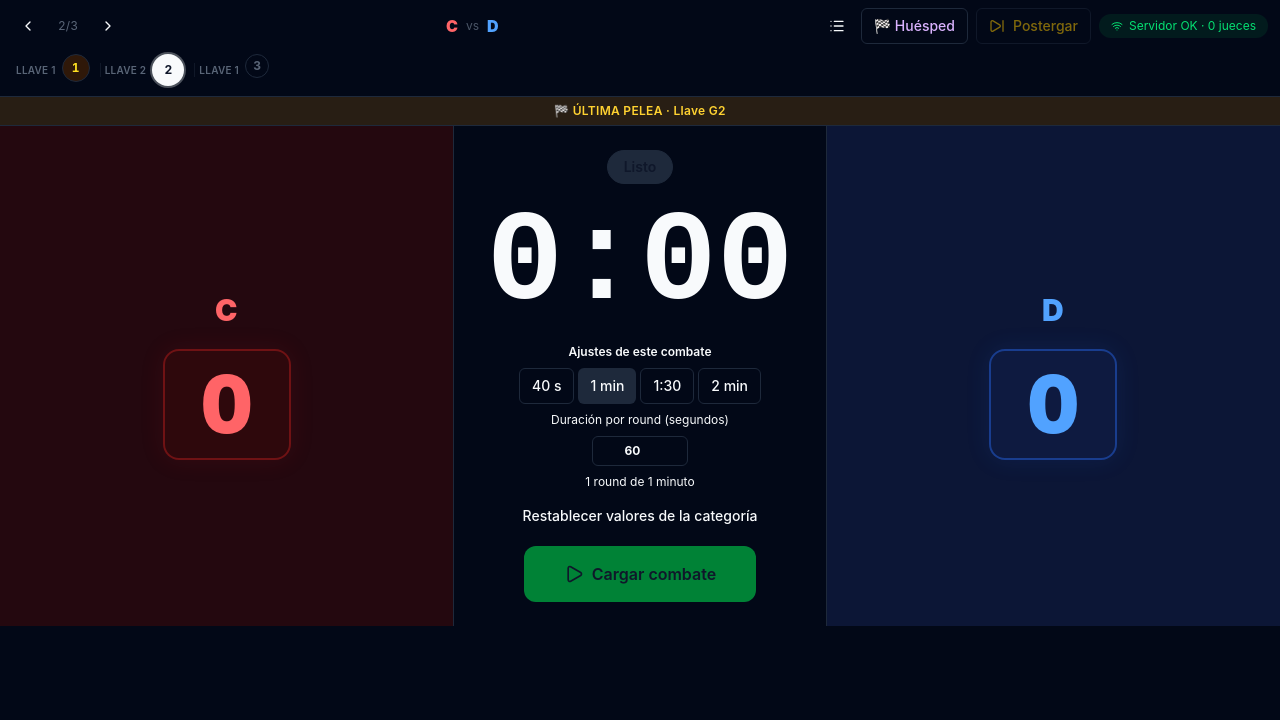
Test: operator-confirmed round-robin rest advisory › renders repeated interleaved group labels without duplicate React keys
Click the button titled "Ver lista de combates" at (837, 26), box [821, 10, 853, 42]
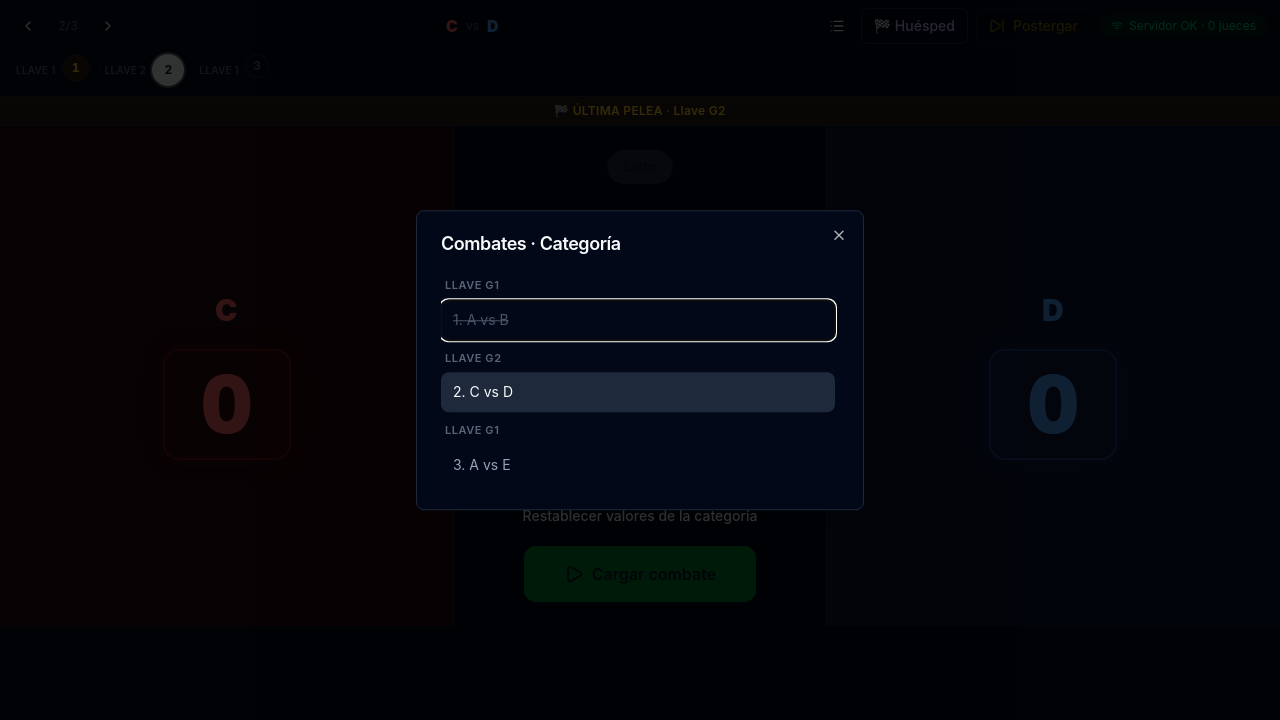
Check: the text "Llave G1" is shown 2 times, box [445, 278, 499, 292]; [445, 423, 499, 437]
